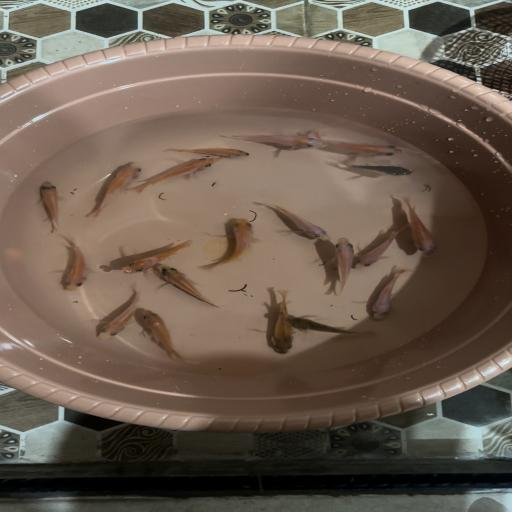nila: (126, 156, 220, 196), (136, 310, 204, 364), (197, 217, 263, 272), (252, 200, 338, 242), (151, 264, 229, 310), (84, 161, 144, 218), (89, 283, 142, 343), (112, 239, 196, 276), (394, 194, 440, 260), (360, 270, 414, 324), (351, 225, 410, 273), (224, 128, 333, 152), (263, 288, 301, 356), (28, 177, 72, 234), (326, 234, 363, 296), (54, 234, 93, 292), (283, 316, 381, 335), (320, 138, 420, 156), (329, 160, 418, 180), (160, 145, 257, 159)
